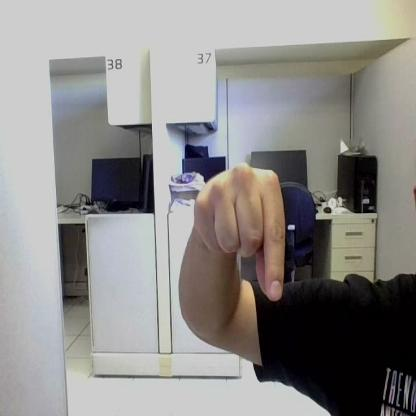Q: (194, 164, 284, 302)
